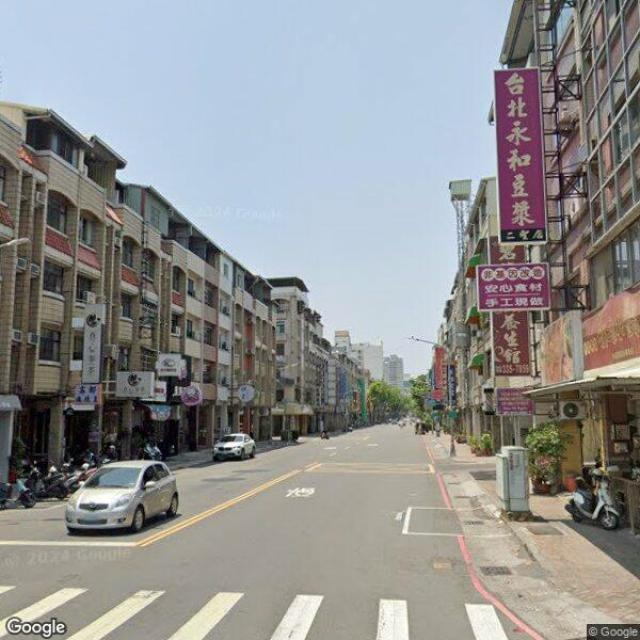Legalparking: (23, 449, 114, 499), (565, 469, 620, 528), (142, 439, 163, 459)
illegalparking: (65, 460, 178, 533), (213, 433, 256, 460)
